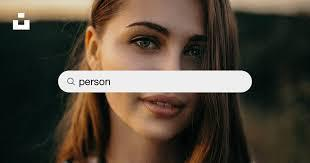Persons: (82, 1, 243, 148)
